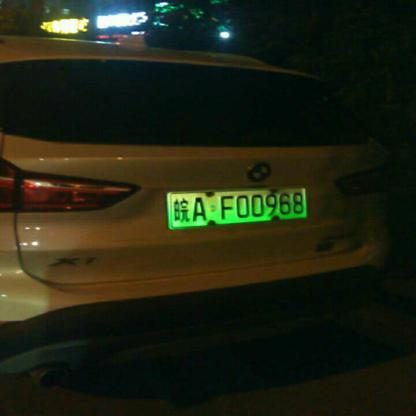lp: (169, 187, 307, 229)
